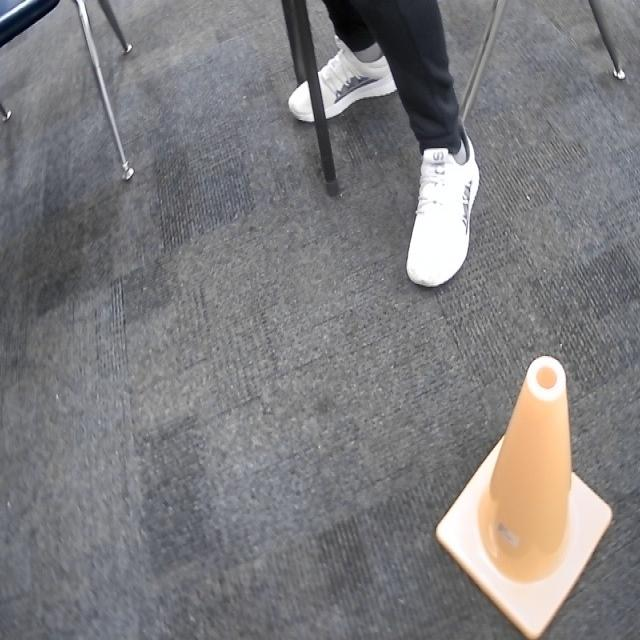cone: (428, 349, 616, 640)
